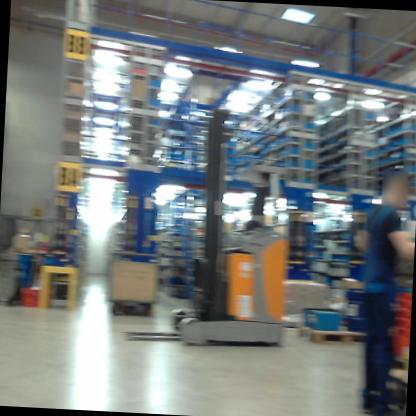forklift: (122, 102, 306, 358)
pallet: (297, 321, 365, 347)
